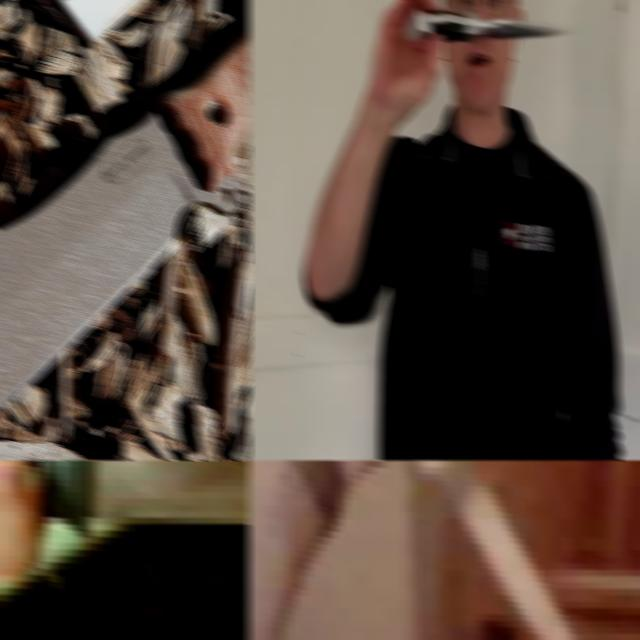Knife_Handle: (278, 460, 601, 640), (0, 460, 250, 594), (369, 0, 576, 117)
